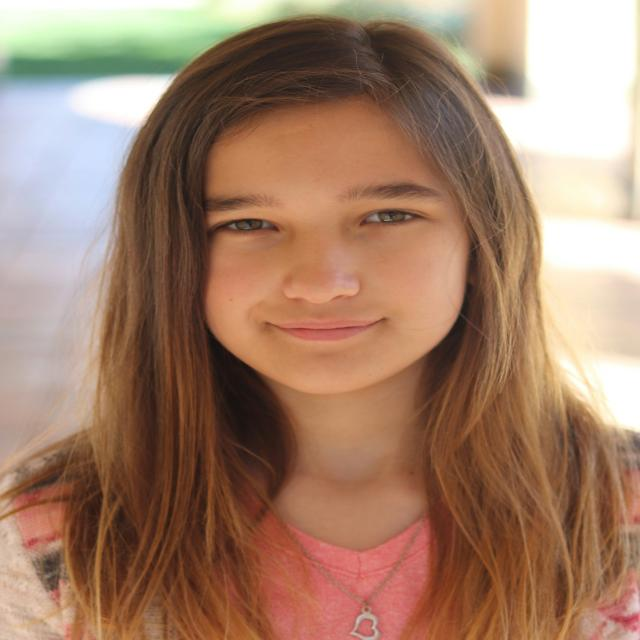mobile_phonerotation: (2, 12, 637, 638)
